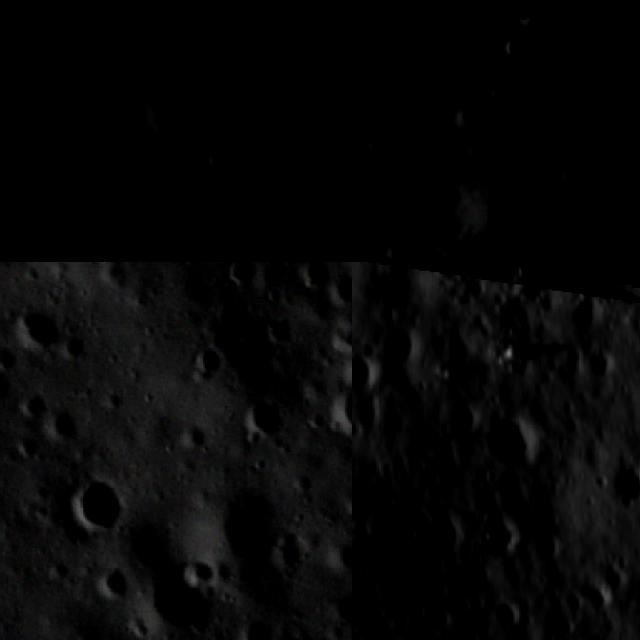crater: (137, 54, 258, 170), (463, 162, 552, 250), (467, 398, 544, 476), (458, 496, 532, 568), (0, 0, 102, 52), (354, 310, 427, 382), (550, 280, 620, 346), (411, 499, 476, 567), (0, 0, 42, 105), (41, 160, 110, 223), (234, 0, 305, 55), (430, 384, 491, 448), (588, 447, 640, 519), (56, 210, 122, 262), (584, 543, 640, 603), (73, 474, 124, 536), (519, 524, 568, 574), (577, 338, 625, 388), (514, 0, 574, 39), (498, 231, 573, 262), (352, 337, 387, 403), (573, 574, 620, 623), (83, 119, 127, 166), (13, 304, 59, 345), (244, 399, 283, 447), (352, 385, 388, 437), (480, 593, 522, 636), (412, 262, 481, 286), (187, 334, 223, 379), (221, 185, 261, 222), (0, 178, 27, 231), (497, 25, 535, 62), (96, 564, 133, 602), (275, 78, 314, 114), (47, 407, 85, 443), (327, 382, 352, 436), (280, 104, 319, 138), (1, 101, 35, 138), (317, 146, 352, 180), (221, 262, 255, 293), (14, 392, 48, 420), (330, 270, 352, 309), (15, 246, 64, 262), (65, 331, 87, 364), (627, 262, 640, 313), (304, 262, 327, 290), (206, 0, 242, 17), (244, 621, 273, 640), (0, 346, 20, 369), (341, 78, 352, 112)
